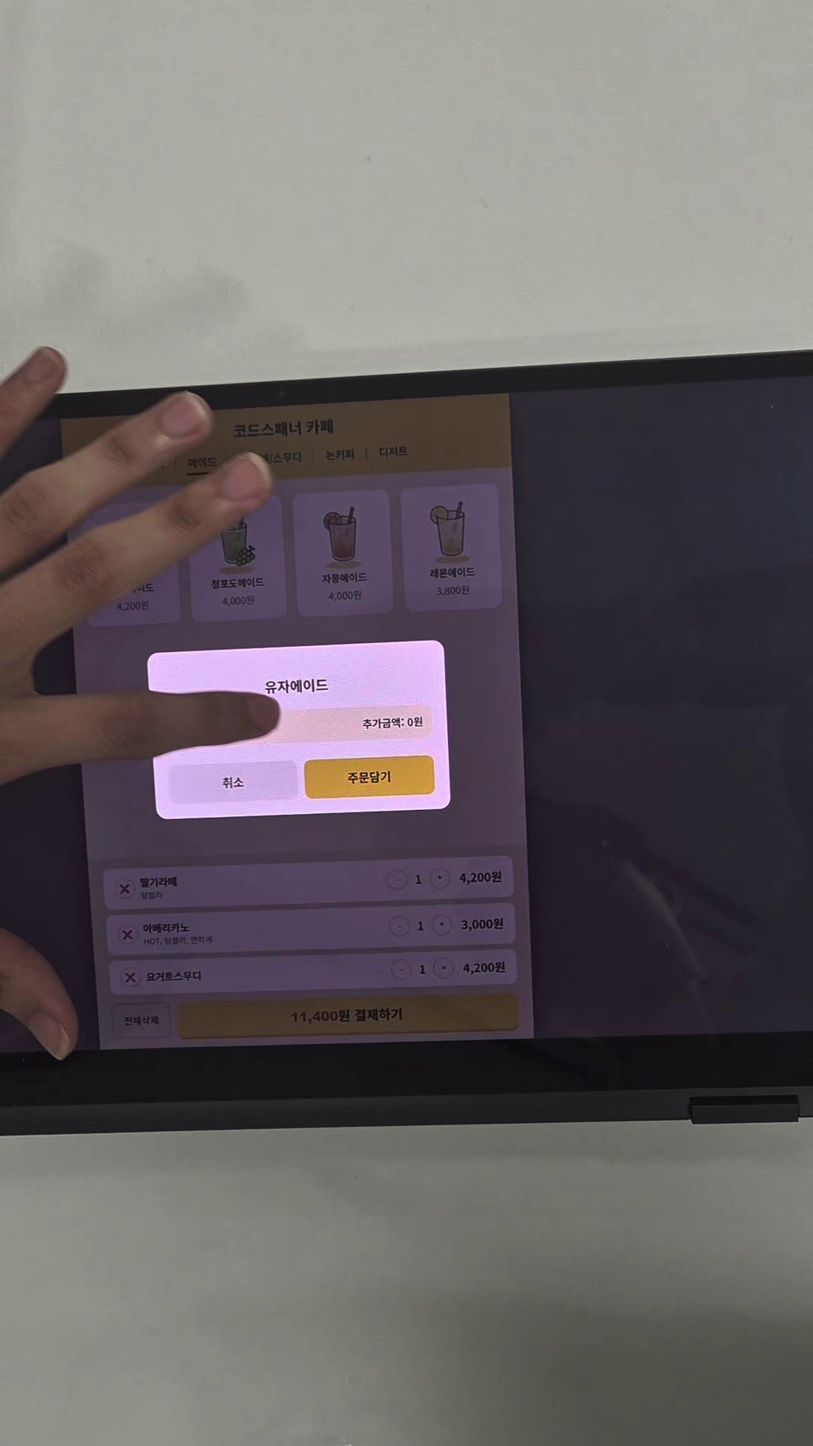action_button: (300, 756, 440, 801), (169, 761, 298, 802)
popup_modal: (146, 640, 450, 817)
